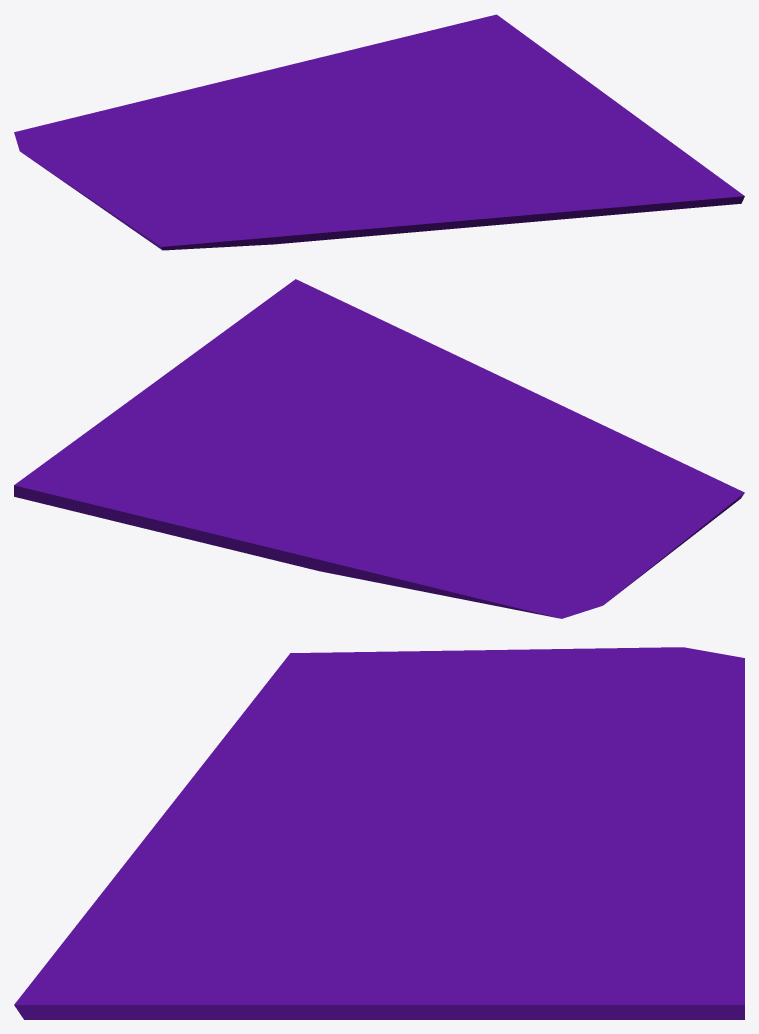
The model's file is Exhibition_18_3_chunks.fbx.
The picture shows the model from 3 angles, top to bottom: view 1: azimuth 30°, elevation 25°; view 2: azimuth 150°, elevation 25°; view 3: azimuth 270°, elevation 25°; orthographic projection. The views are drawn at different scales.
Visible parts, largest first — view 1: Exhibition_18_3_1, Exhibition_18_3_3, Exhibition_18_3_9, Exhibition_18_3_5, Exhibition_18_3_6, Exhibition_18_3_4, Exhibition_18_3_7, Exhibition_18_3_2, Exhibition_18_3_8; view 2: Exhibition_18_3_1, Exhibition_18_3_5, Exhibition_18_3_3, Exhibition_18_3_9, Exhibition_18_3_6, Exhibition_18_3_4, Exhibition_18_3_2, Exhibition_18_3_7, Exhibition_18_3_8; view 3: Exhibition_18_3_1, Exhibition_18_3_3, Exhibition_18_3_5, Exhibition_18_3_9, Exhibition_18_3_6, Exhibition_18_3_4, Exhibition_18_3_2, Exhibition_18_3_7, Exhibition_18_3_8.
Boxes of the visible parts, bbox=[...] form: Exhibition_18_3_1: bbox=[14, 70, 333, 246]; Exhibition_18_3_3: bbox=[434, 86, 722, 180]; Exhibition_18_3_9: bbox=[364, 152, 744, 222]; Exhibition_18_3_5: bbox=[318, 14, 594, 113]; Exhibition_18_3_6: bbox=[155, 150, 383, 250]; Exhibition_18_3_4: bbox=[284, 88, 435, 157]; Exhibition_18_3_7: bbox=[310, 200, 530, 241]; Exhibition_18_3_2: bbox=[269, 58, 403, 104]; Exhibition_18_3_8: bbox=[258, 194, 397, 241]; Exhibition_18_3_1: bbox=[272, 475, 737, 618]; Exhibition_18_3_5: bbox=[14, 403, 280, 541]; Exhibition_18_3_3: bbox=[126, 297, 382, 453]; Exhibition_18_3_9: bbox=[271, 279, 501, 461]; Exhibition_18_3_6: bbox=[411, 430, 744, 501]; Exhibition_18_3_4: bbox=[277, 429, 421, 531]; Exhibition_18_3_2: bbox=[199, 472, 306, 559]; Exhibition_18_3_7: bbox=[461, 358, 608, 428]; Exhibition_18_3_8: bbox=[497, 420, 669, 456]; Exhibition_18_3_1: bbox=[309, 647, 744, 841]; Exhibition_18_3_3: bbox=[72, 865, 488, 1019]; Exhibition_18_3_5: bbox=[454, 876, 744, 1019]; Exhibition_18_3_9: bbox=[14, 811, 425, 1019]; Exhibition_18_3_6: bbox=[245, 653, 454, 831]; Exhibition_18_3_4: bbox=[358, 817, 677, 898]; Exhibition_18_3_2: bbox=[539, 835, 744, 888]; Exhibition_18_3_7: bbox=[115, 759, 255, 875]; Exhibition_18_3_8: bbox=[207, 711, 284, 814].
Bounding box in the file's own units: 829 × 16.07 × 716.
